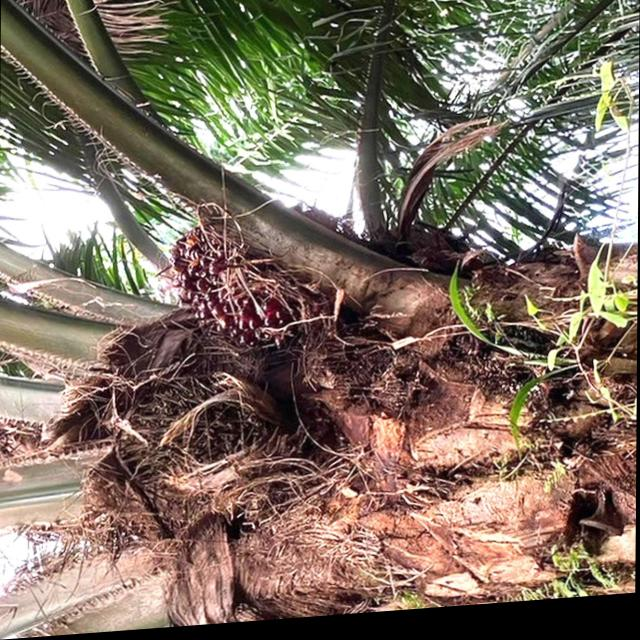ripe: (171, 220, 325, 358)
